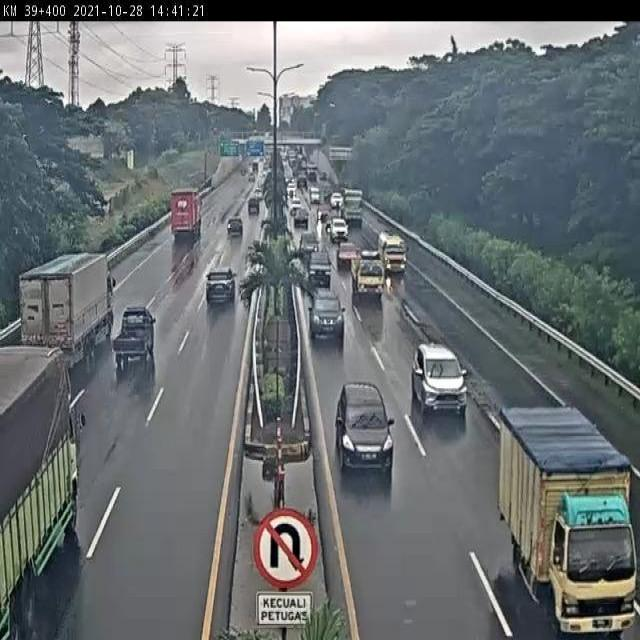car: (335, 382, 394, 474), (411, 341, 468, 416), (111, 305, 155, 364), (308, 288, 345, 343), (206, 267, 236, 305), (305, 247, 332, 285)
mid truck: (18, 252, 116, 367)
small truck: (350, 249, 386, 300)
truck-m-: (496, 405, 639, 640)
